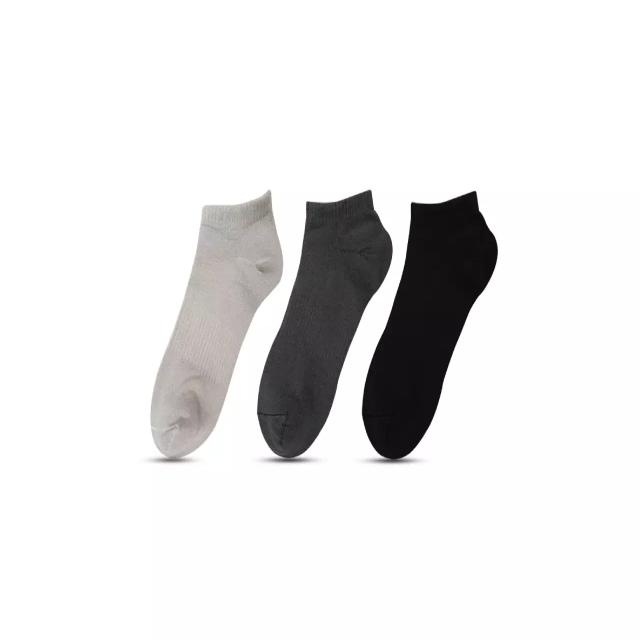sock: (362, 189, 498, 459), (256, 188, 392, 458), (149, 188, 283, 459)
